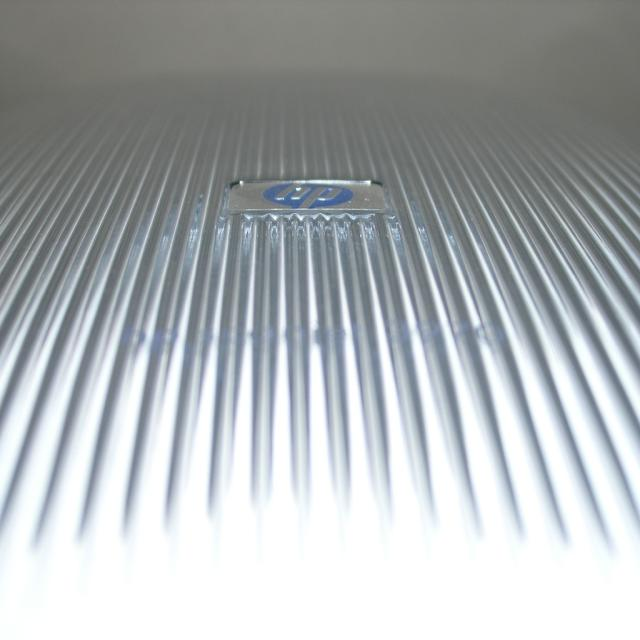HP: (226, 173, 393, 217)
